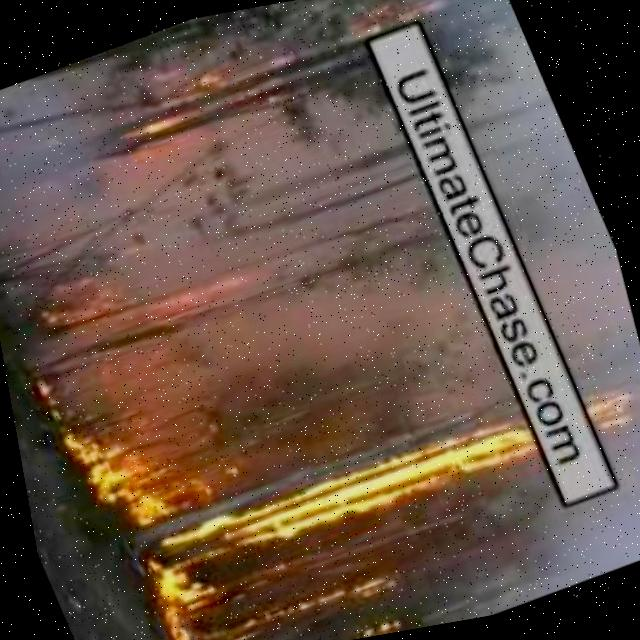fire: (128, 416, 552, 604), (62, 381, 213, 534), (167, 609, 262, 640), (584, 387, 640, 437)
